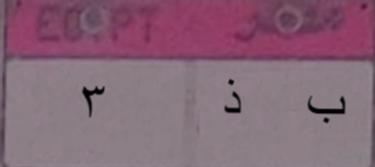3: (76, 78, 110, 124)
baa: (302, 82, 356, 136)
zaal: (214, 71, 253, 124)
